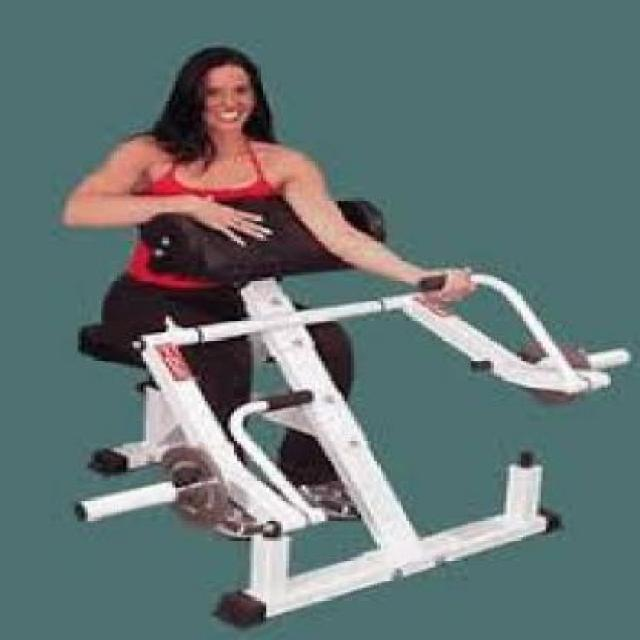arm curl machine: (62, 198, 630, 631)
